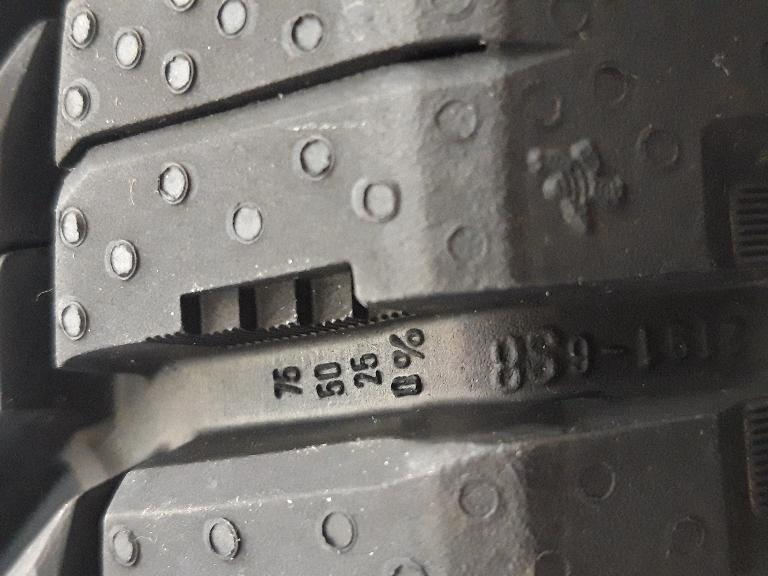temoin:100: (142, 259, 423, 357)
